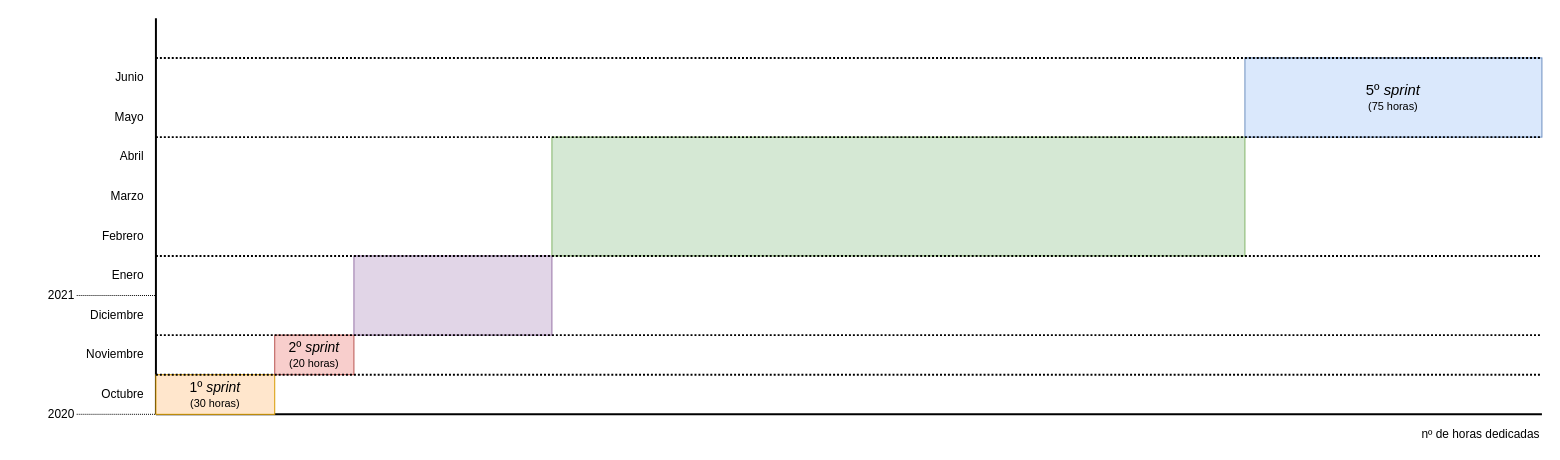
This 1560x460 diagram has some shape labels left out. The shapes that lost their labels are listed below. From the top down, each one's box as (x1, y1, x2, y2) in pixels, then its label:
(551, 136, 1245, 256): 4º sprint (175 horas)
(353, 255, 552, 335): 3º sprint (50 horas)
